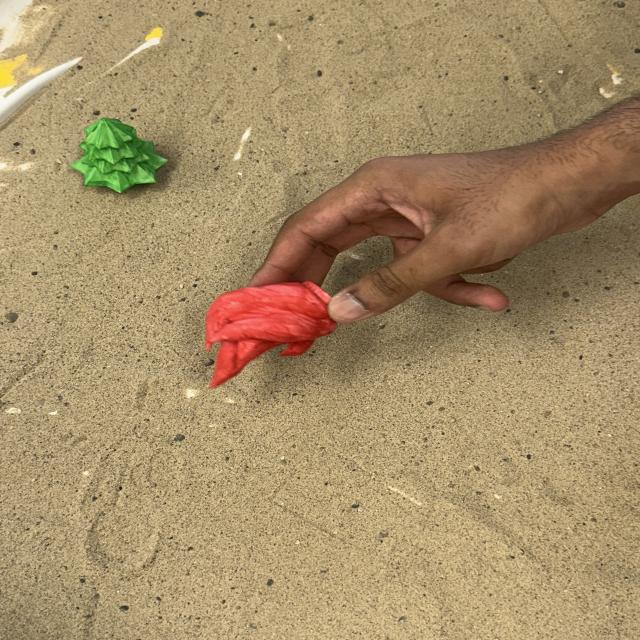fire: (202, 279, 338, 389)
tree: (69, 116, 168, 194)
